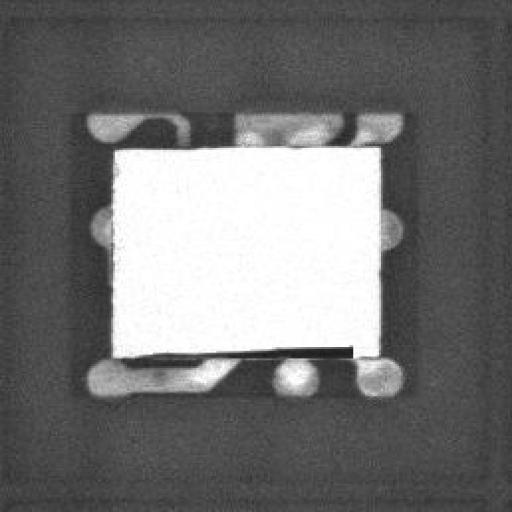DIE_BROKEN: (157, 340, 353, 358)
